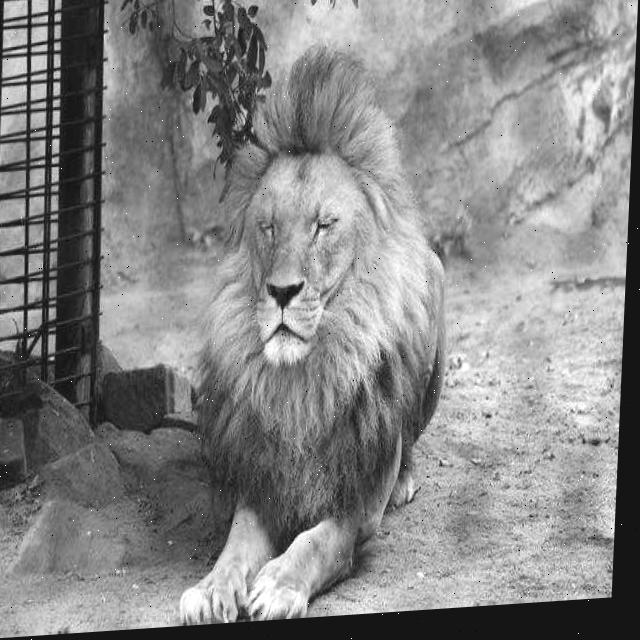Lion: (160, 25, 453, 559)
